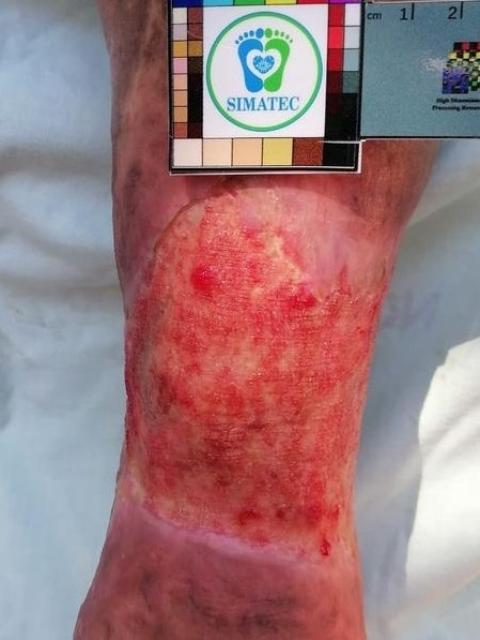wound: (124, 193, 390, 560)
